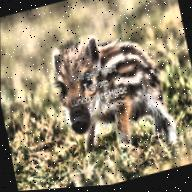boar: (36, 13, 181, 170)
